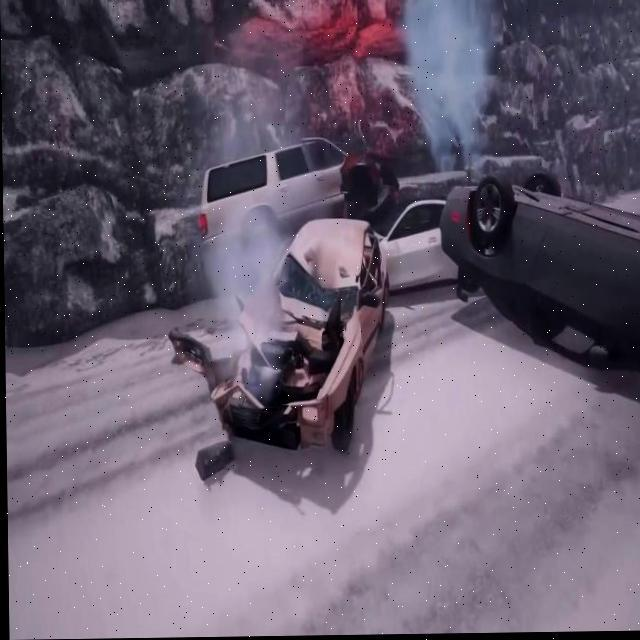multiple_accident: (127, 156, 637, 514)
